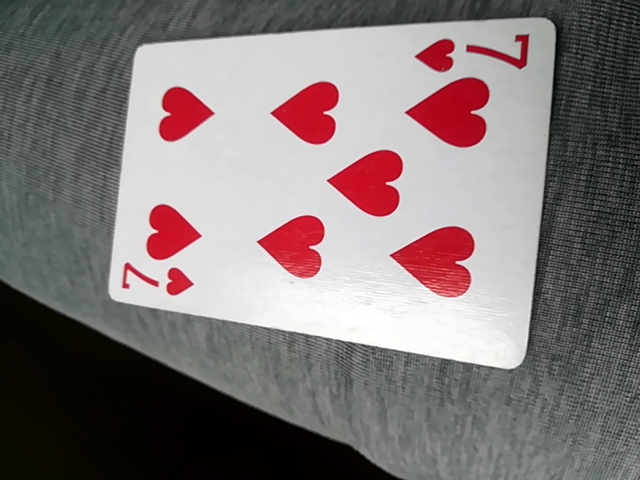hx 7: (112, 15, 565, 371)
